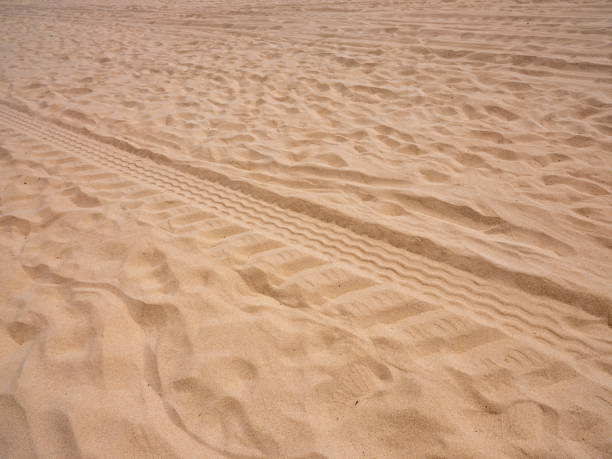human_foot_print: (302, 354, 382, 419), (184, 375, 256, 447), (492, 208, 572, 262), (140, 251, 211, 296), (492, 406, 548, 458), (357, 120, 426, 162), (42, 402, 92, 456), (425, 142, 488, 176), (19, 299, 52, 362), (0, 390, 29, 458), (545, 171, 603, 196), (420, 159, 458, 194), (358, 190, 398, 220), (59, 182, 95, 210), (341, 81, 393, 100), (476, 110, 514, 134), (321, 154, 343, 179), (535, 135, 561, 154)
